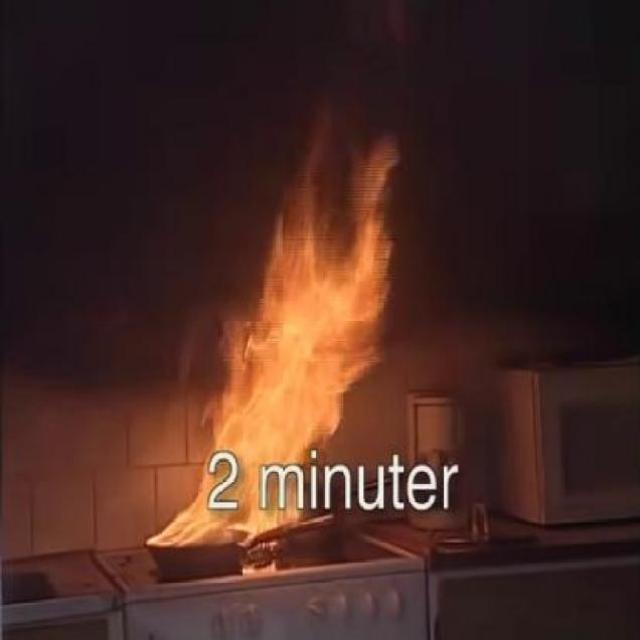smoke: (179, 130, 408, 540)
